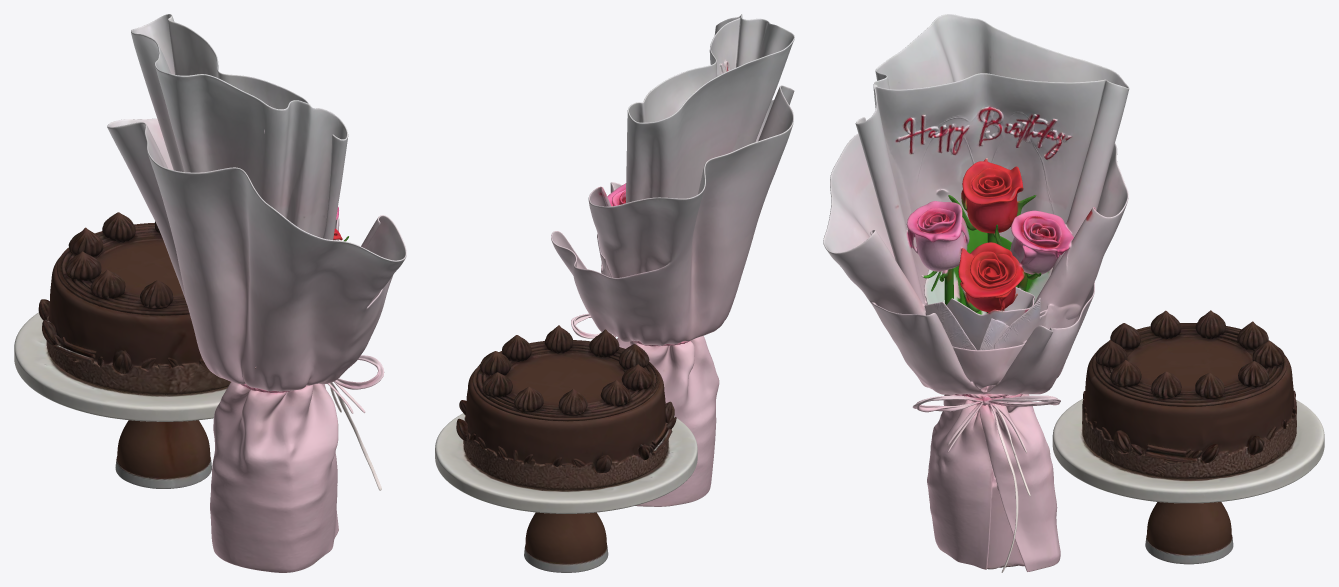
The model's file is four-flower-compressed.glb.
3 views of the same model, side by side, from view 1: azimuth 30°, elevation 25°; view 2: azimuth 150°, elevation 25°; view 3: azimuth 270°, elevation 25° (orthographic). The views are drawn at different scales.
Visible parts, largest first — view 1: tripo_node_09f2dece-ff78-4938-9108-4bb82ef9820e; view 2: tripo_node_09f2dece-ff78-4938-9108-4bb82ef9820e; view 3: tripo_node_09f2dece-ff78-4938-9108-4bb82ef9820e.
Boxes of the visible parts, left/top/right/bottom form: tripo_node_09f2dece-ff78-4938-9108-4bb82ef9820e: left=14, top=14, right=406, bottom=572; tripo_node_09f2dece-ff78-4938-9108-4bb82ef9820e: left=435, top=14, right=794, bottom=572; tripo_node_09f2dece-ff78-4938-9108-4bb82ef9820e: left=823, top=14, right=1324, bottom=572.
Size of the model in its own units: 0.5091 by 0.981 by 0.9356.
1 material, 1 textured.
